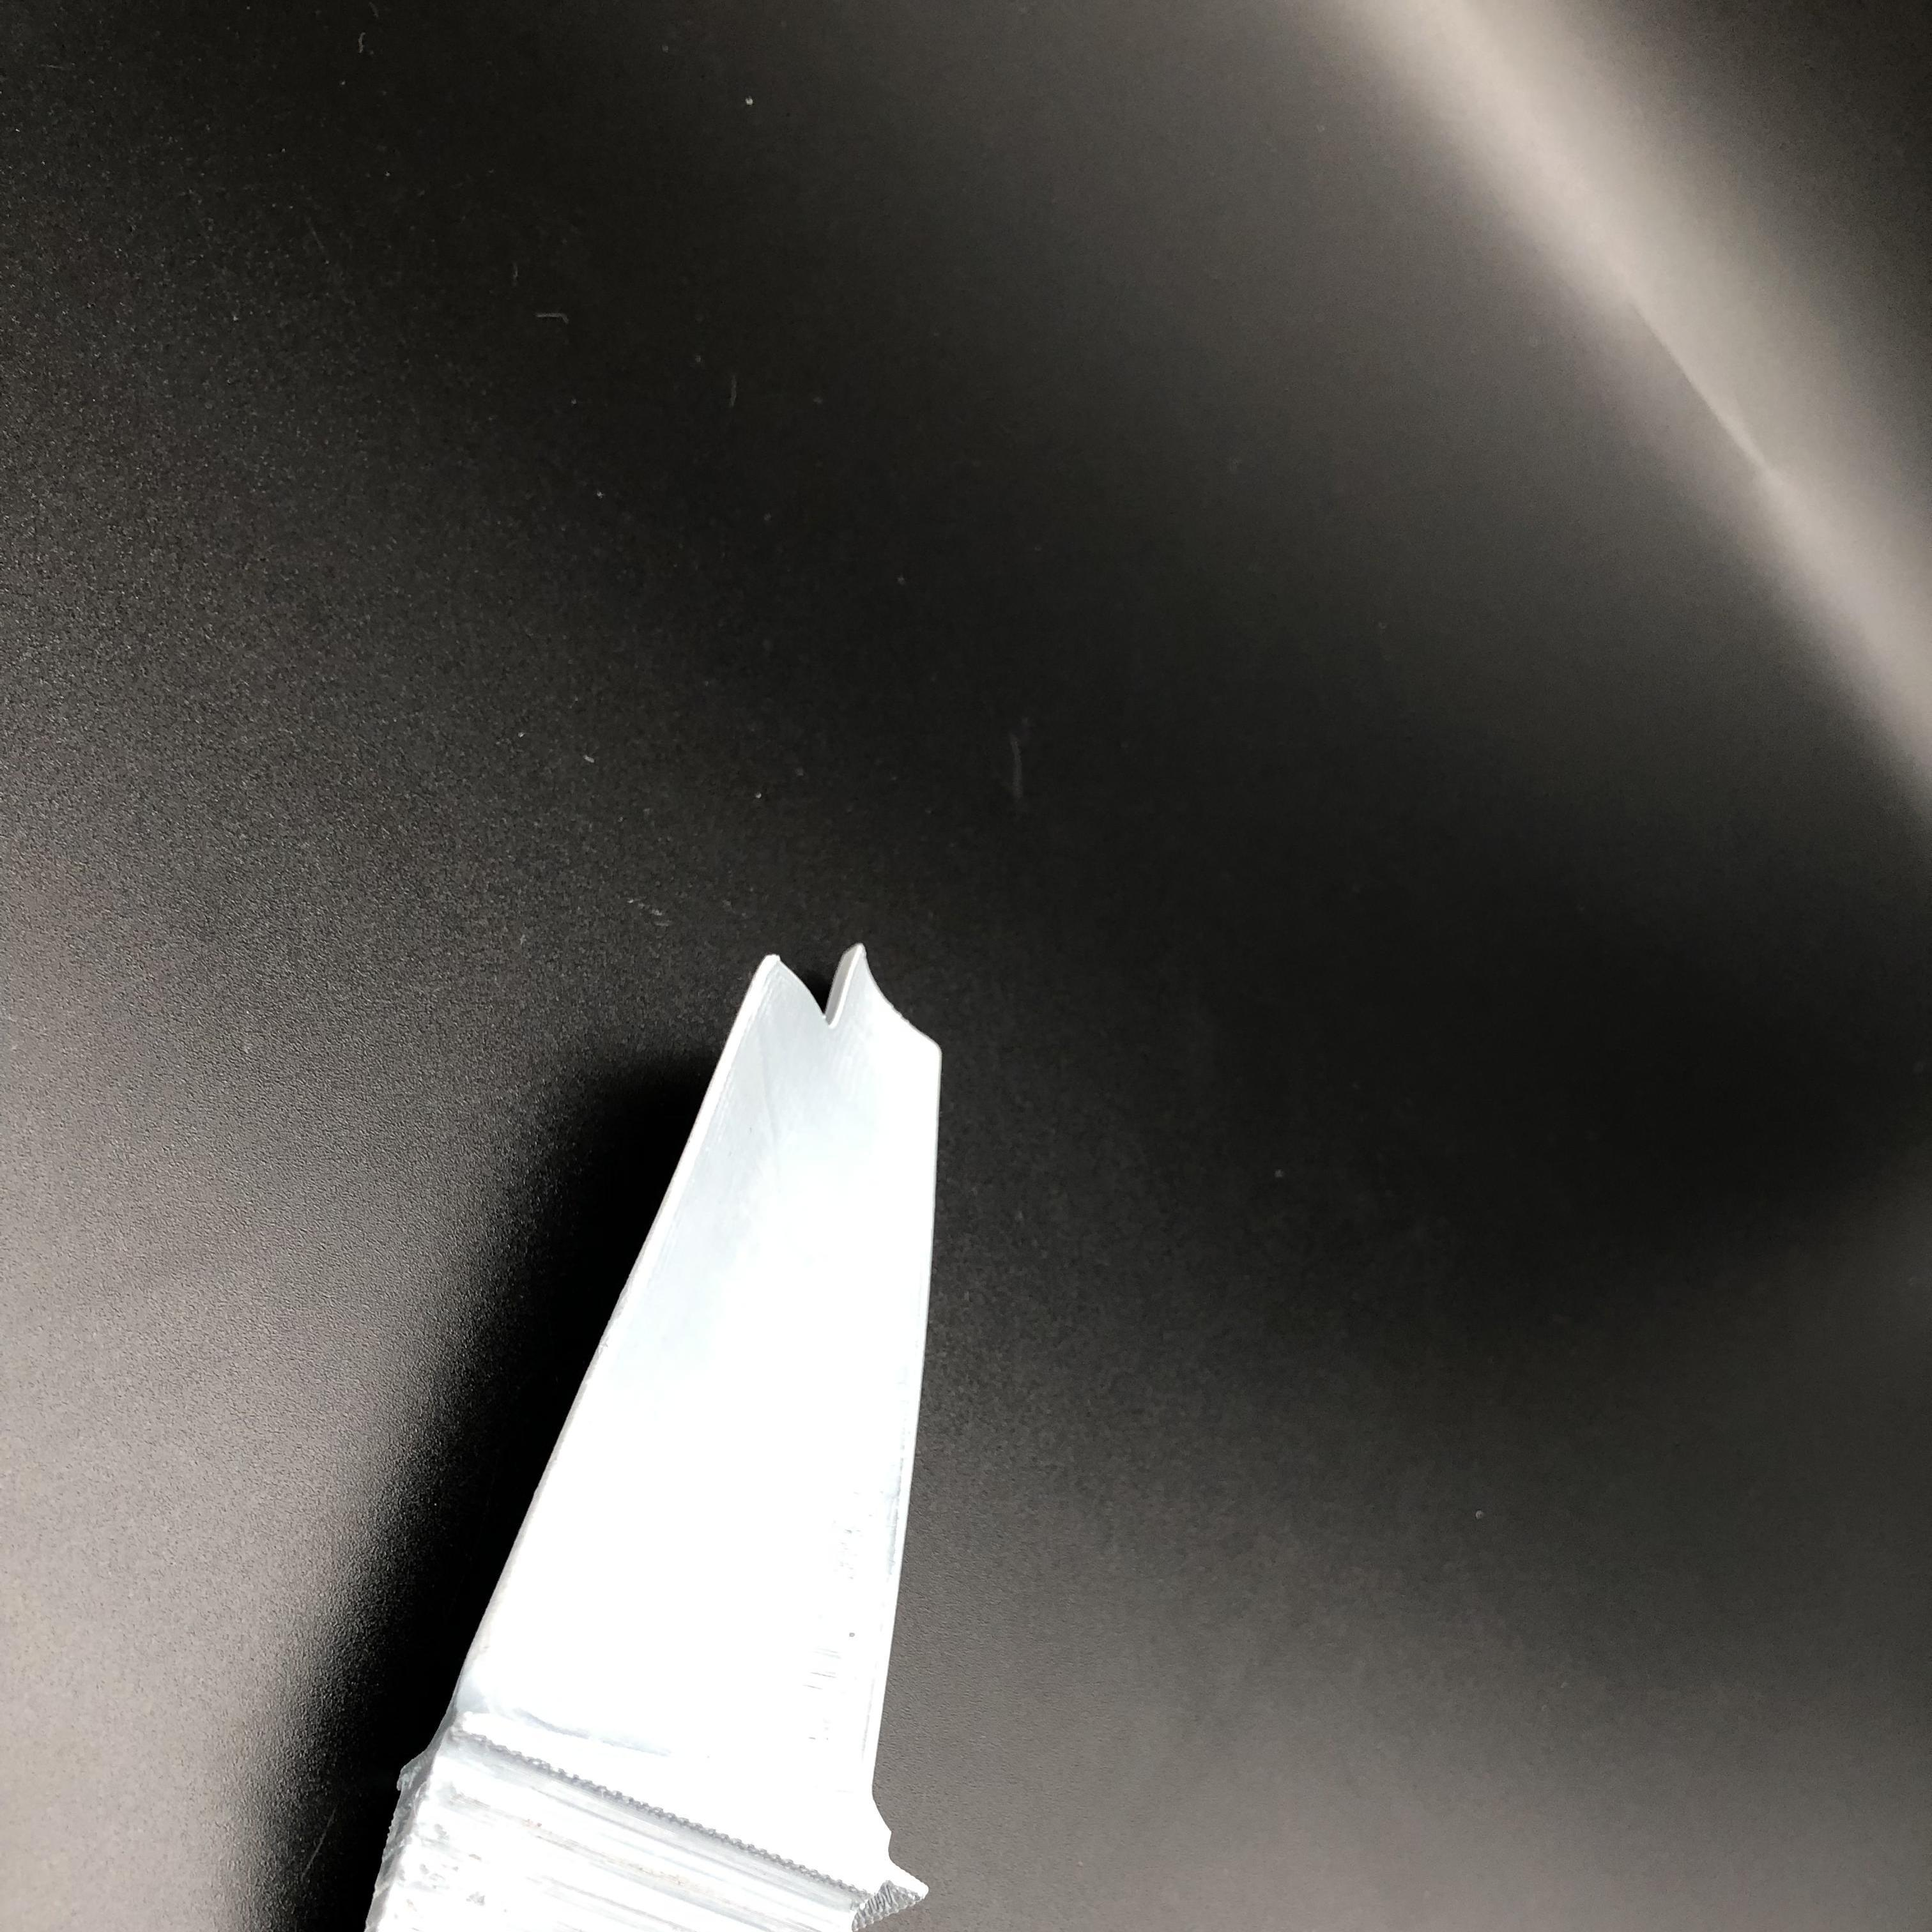fracture: (764, 936, 885, 1040)
